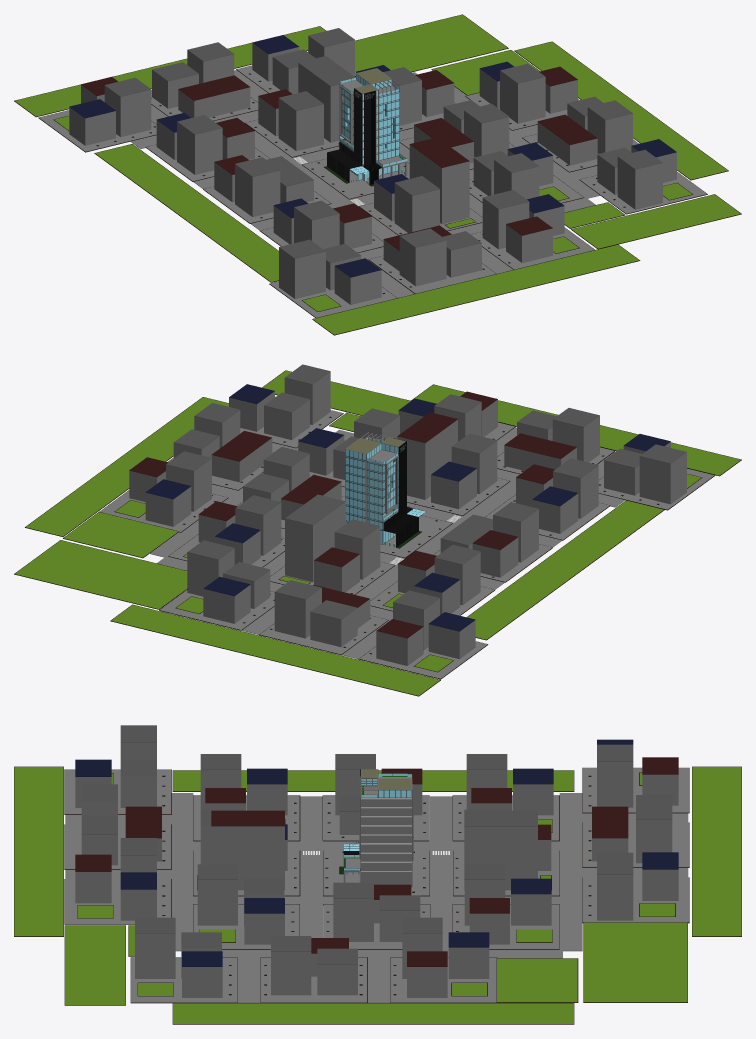
Rendered from uploads_files_5196714_Nexus+Corp+Office+Building+3D.fbx.
3 renders of one model, top to bottom at view 1: azimuth 30°, elevation 25°; view 2: azimuth 150°, elevation 25°; view 3: azimuth 270°, elevation 25°, orthographic. The views are drawn at different scales.
Visible parts, largest first — view 1: Box2018, Box2015, Box2011, Box2016, Box2013, Box2017, Box1796, Box1935, Box1929, Box1987, Box1792, Box1984 (+58 smaller); view 2: Box2017, Box2011, Box2015, Box2016, Box2012, Box2018, Box1793, Box1796, Box2013, Box1935, Box1646, Box1878 (+58 smaller); view 3: Box2016, Box2017, Box2018, Box2011, Box2013, Box639, Box2012, Box1842, Box1796, Box1793, Box2015, Box1843 (+106 smaller).
Part boxes in pixels (<box>): Box2018: <box>312,244,640,335</box>; Box2015: <box>94,144,278,282</box>; Box2011: <box>355,14,508,76</box>; Box2016: <box>514,41,728,180</box>; Box2013: <box>571,194,741,249</box>; Box2017: <box>14,26,326,117</box>; Box1796: <box>409,145,469,224</box>; Box1935: <box>279,247,325,298</box>; Box1929: <box>399,236,446,286</box>; Box1987: <box>617,157,662,209</box>; Box1792: <box>278,98,323,151</box>; Box1984: <box>500,71,545,123</box>; Box2017: <box>110,604,440,696</box>; Box2011: <box>14,540,187,609</box>; Box2015: <box>467,500,664,640</box>; Box2016: <box>25,397,228,536</box>; Box2012: <box>63,512,178,558</box>; Box2018: <box>411,384,741,476</box>; Box1793: <box>285,502,345,581</box>; Box1796: <box>397,419,457,499</box>; Box2013: <box>262,370,410,415</box>; Box1935: <box>639,452,686,504</box>; Box1646: <box>355,480,515,600</box>; Box1878: <box>274,588,321,638</box>; Box2016: <box>172,1003,574,1024</box>; Box2017: <box>692,766,741,936</box>; Box2018: <box>14,766,63,936</box>; Box2011: <box>583,922,687,1002</box>; Box2013: <box>64,925,125,1005</box>; Box639: <box>361,799,411,887</box>; Box2012: <box>496,958,578,1002</box>; Box1842: <box>559,793,582,951</box>; Box1796: <box>211,826,284,890</box>; Box1793: <box>464,826,537,890</box>; Box2015: <box>172,770,574,791</box>; Box1843: <box>170,793,193,951</box>.
Size of the model in its own units: 21212 by 3792 by 25326.
